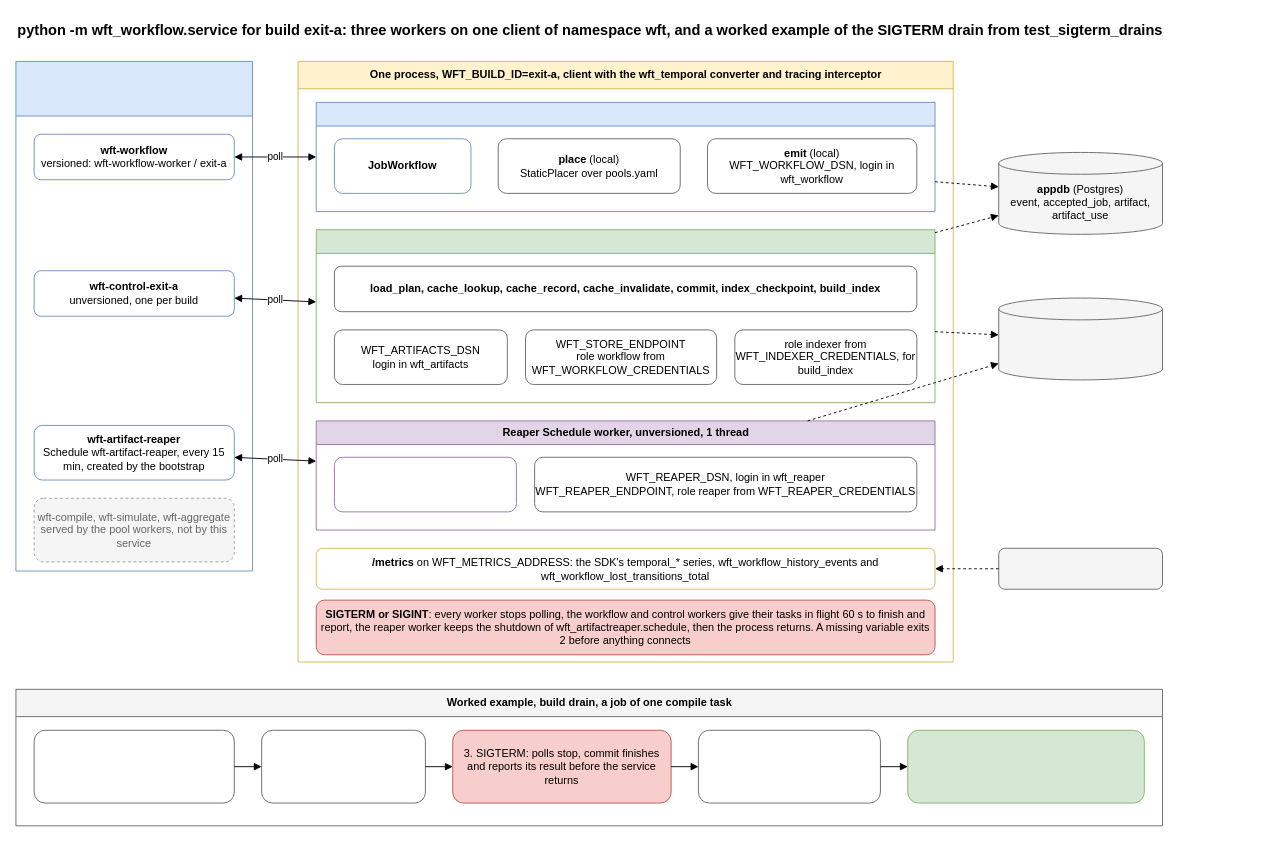
Some shapes in this 1269 by 842 pixel diagram are drawn without their labels. Here are the shapes that lost their labels. From the top down, the box of each, then its label:
(315, 101, 935, 212): Workflow worker, PINNED, 8 local activity threads
(15, 61, 253, 571): Temporal, namespace wft WFT_TEMPORAL_ADDRESS, WFT_TEMPORAL_NAMESPACE
(315, 229, 935, 403): Control activity worker, unversioned, 8 threads
(998, 297, 1163, 380): objectstore manifests, sources, outputs, indexes
(334, 456, 516, 512): ReapWorkflow , activity reap_pass
(998, 547, 1163, 589): Prometheus scrape
(33, 729, 234, 803): 1. load_plan, cache_lookup on wft-control-drain, run_task on wft-compile
(261, 729, 425, 803): 2. commit starts and takes 3 s
(698, 729, 880, 803): 4. the job stays RUNNING with no worker of drain
(907, 729, 1144, 803): 5. the service starts again: cache_record, job.succeeded, and commit ran once
